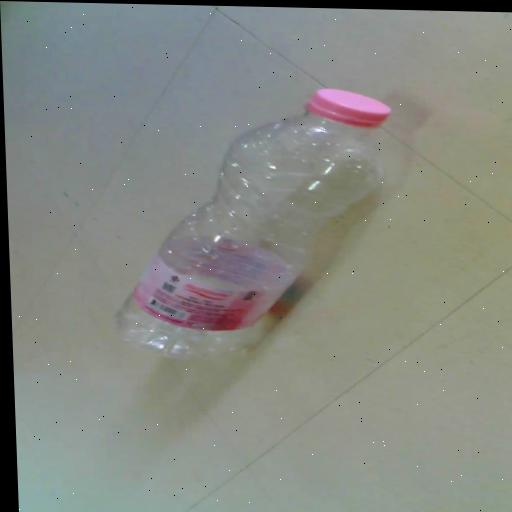bottle: (88, 74, 413, 383)
